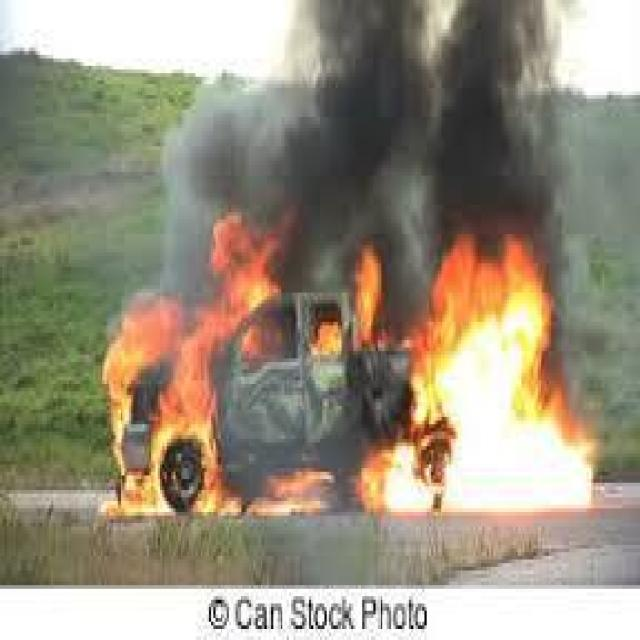fire: (90, 243, 603, 512)
smoke: (182, 6, 560, 228)
